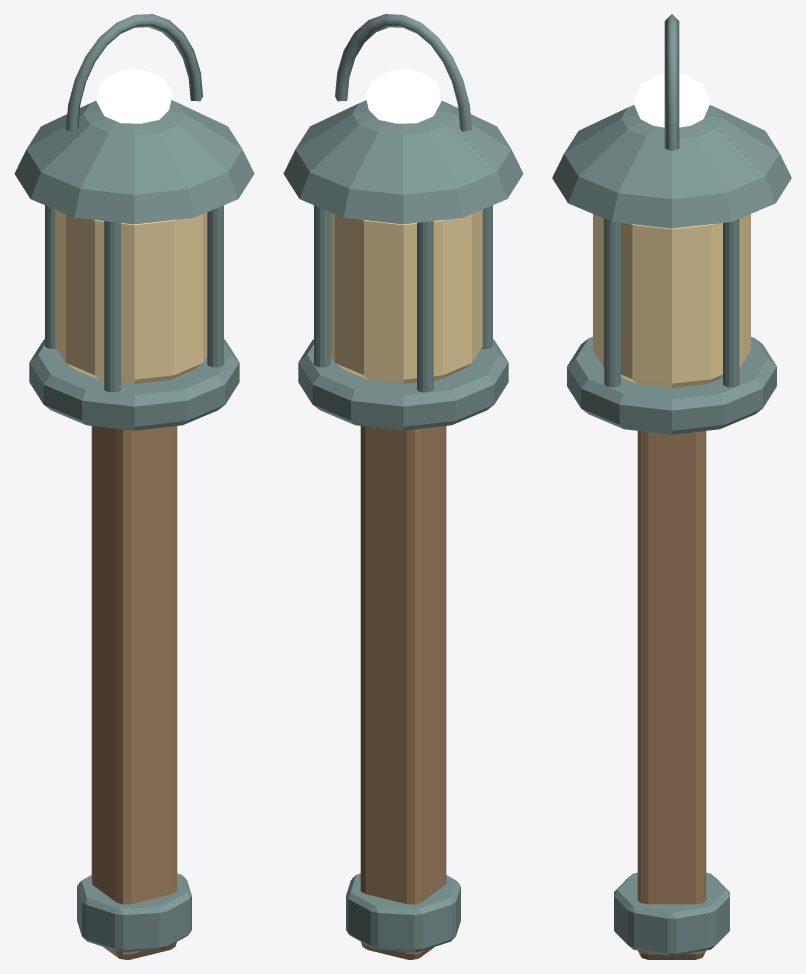
The model's file is Lantern.fbx.
3 views of the same model, side by side, from view 1: azimuth 30°, elevation 25°; view 2: azimuth 150°, elevation 25°; view 3: azimuth 270°, elevation 25° (orthographic).
Visible parts, largest first — view 1: Chamfered wooden stand, Warm glass volume, Shaped lantern hood, Lantern foot, Foot collar, Visible warm crown, Arched carrying handle, Rounded cage post.001, Rounded cage post, Rounded cage post.002; view 2: Chamfered wooden stand, Warm glass volume, Shaped lantern hood, Lantern foot, Foot collar, Visible warm crown, Arched carrying handle, Rounded cage post.002, Rounded cage post.003, Rounded cage post.001; view 3: Chamfered wooden stand, Shaped lantern hood, Warm glass volume, Lantern foot, Foot collar, Rounded cage post, Rounded cage post.003, Visible warm crown, Arched carrying handle.
Boxes of the visible parts, x1=… form: Chamfered wooden stand: x1=91, y1=426, x2=177, y2=959; Warm glass volume: x1=55, y1=209, x2=207, y2=383; Shaped lantern hood: x1=14, y1=100, x2=254, y2=224; Lantern foot: x1=29, y1=339, x2=239, y2=430; Foot collar: x1=77, y1=873, x2=191, y2=952; Visible warm crown: x1=96, y1=68, x2=172, y2=123; Arched carrying handle: x1=66, y1=14, x2=202, y2=131; Rounded cage post.001: x1=104, y1=221, x2=120, y2=392; Rounded cage post: x1=207, y1=205, x2=223, y2=367; Rounded cage post.002: x1=45, y1=205, x2=56, y2=348; Chamfered wooden stand: x1=360, y1=426, x2=446, y2=959; Warm glass volume: x1=330, y1=209, x2=482, y2=383; Shaped lantern hood: x1=283, y1=100, x2=523, y2=224; Lantern foot: x1=298, y1=339, x2=508, y2=430; Foot collar: x1=346, y1=873, x2=460, y2=952; Visible warm crown: x1=365, y1=68, x2=441, y2=123; Arched carrying handle: x1=335, y1=14, x2=471, y2=131; Rounded cage post.002: x1=417, y1=221, x2=433, y2=392; Rounded cage post.003: x1=314, y1=205, x2=330, y2=367; Rounded cage post.001: x1=481, y1=205, x2=492, y2=348; Chamfered wooden stand: x1=637, y1=431, x2=706, y2=959; Shaped lantern hood: x1=552, y1=105, x2=791, y2=228; Warm glass volume: x1=593, y1=214, x2=750, y2=387; Lantern foot: x1=567, y1=336, x2=776, y2=434; Foot collar: x1=614, y1=872, x2=729, y2=956; Rounded cage post: x1=604, y1=219, x2=620, y2=387; Rounded cage post.003: x1=723, y1=219, x2=739, y2=387; Visible warm crown: x1=633, y1=74, x2=710, y2=127; Arched carrying handle: x1=664, y1=14, x2=679, y2=150.
Bounding box in the file's own units: 40 × 171 × 40.
